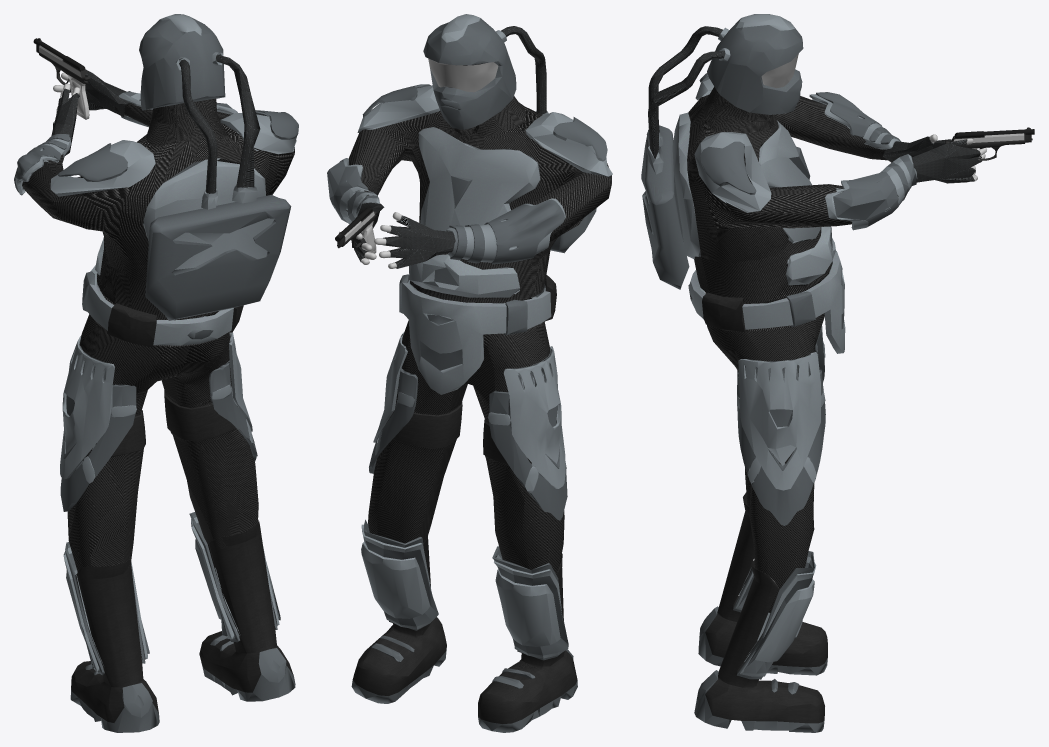
File: AndarPistola.0002.obj
3 views of the same model, side by side, from view 1: azimuth 30°, elevation 25°; view 2: azimuth 150°, elevation 25°; view 3: azimuth 270°, elevation 25° (orthographic).
Parts seen in each view (by area): view 1: personajeskefix:personaje:extrudedSurface2 polySurface22, personajeskefix:personaje:PANTALON polySurface22, personajeskefix:personaje:bota1 polySurface22, personajeskefix:personaje:CAMISETABUENA polySurface22, personajeskefix:personaje:pPipe4 polySurface22, personajeskefix:personaje:pCube4 polySurface22, personajeskefix:personaje:cosoarmdaurapierna1 polySurface22, personajeskefix:personaje:cinturon polySurface22, personajeskefix:personaje:polySurface6 polySurface22, personajeskefix:personaje:armadbota1 polySurface22, personajeskefix:personaje:HOMBRO2 polySurface22, pistola:Cylinder001 polySurface22 (+6 smaller); view 2: personajeskefix:personaje:pPipe4 polySurface22, personajeskefix:personaje:PANTALON polySurface22, personajeskefix:personaje:CAMISETABUENA polySurface22, personajeskefix:personaje:bota1 polySurface22, personajeskefix:personaje:cinturon polySurface22, personajeskefix:personaje:armadbota1 polySurface22, personajeskefix:personaje:pCube4 polySurface22, personajeskefix:personaje:extrudedSurface2 polySurface22, personajeskefix:personaje:cosoarmdaurapierna1 polySurface22, personajeskefix:personaje:polySurface2 polySurface22, personajeskefix:personaje:polySurface6 polySurface22, personajeskefix:personaje:gafas polySurface22 (+8 smaller); view 3: personajeskefix:personaje:CAMISETABUENA polySurface22, personajeskefix:personaje:pPipe4 polySurface22, personajeskefix:personaje:bota1 polySurface22, personajeskefix:personaje:extrudedSurface2 polySurface22, personajeskefix:personaje:pCube4 polySurface22, personajeskefix:personaje:PANTALON polySurface22, personajeskefix:personaje:cinturon polySurface22, personajeskefix:personaje:cosoarmadurapierna2 polySurface22, personajeskefix:personaje:armadbota1 polySurface22, personajeskefix:personaje:hombro1 polySurface22, personajeskefix:personaje:polySurface2 polySurface22, pistola:Cylinder001 polySurface22 (+4 smaller).
Part boxes in pixels (bbox=[...]): personajeskefix:personaje:extrudedSurface2 polySurface22: bbox=[139, 14, 291, 320]; personajeskefix:personaje:PANTALON polySurface22: bbox=[67, 289, 258, 571]; personajeskefix:personaje:bota1 polySurface22: bbox=[70, 521, 295, 732]; personajeskefix:personaje:CAMISETABUENA polySurface22: bbox=[22, 98, 294, 346]; personajeskefix:personaje:pPipe4 polySurface22: bbox=[44, 69, 296, 273]; personajeskefix:personaje:pCube4 polySurface22: bbox=[60, 316, 280, 675]; personajeskefix:personaje:cosoarmdaurapierna1 polySurface22: bbox=[60, 336, 136, 483]; personajeskefix:personaje:cinturon polySurface22: bbox=[82, 265, 243, 347]; personajeskefix:personaje:polySurface6 polySurface22: bbox=[111, 390, 236, 456]; personajeskefix:personaje:armadbota1 polySurface22: bbox=[63, 517, 279, 671]; personajeskefix:personaje:HOMBRO2 polySurface22: bbox=[58, 143, 127, 181]; pistola:Cylinder001 polySurface22: bbox=[33, 38, 90, 119]; personajeskefix:personaje:pPipe4 polySurface22: bbox=[327, 85, 612, 297]; personajeskefix:personaje:PANTALON polySurface22: bbox=[368, 292, 564, 574]; personajeskefix:personaje:CAMISETABUENA polySurface22: bbox=[346, 63, 611, 332]; personajeskefix:personaje:bota1 polySurface22: bbox=[351, 536, 577, 732]; personajeskefix:personaje:cinturon polySurface22: bbox=[399, 267, 556, 394]; personajeskefix:personaje:armadbota1 polySurface22: bbox=[361, 524, 566, 658]; personajeskefix:personaje:pCube4 polySurface22: bbox=[363, 332, 568, 660]; personajeskefix:personaje:extrudedSurface2 polySurface22: bbox=[423, 14, 596, 253]; personajeskefix:personaje:cosoarmdaurapierna1 polySurface22: bbox=[488, 346, 566, 493]; personajeskefix:personaje:polySurface2 polySurface22: bbox=[449, 199, 564, 264]; personajeskefix:personaje:polySurface6 polySurface22: bbox=[393, 402, 508, 465]; personajeskefix:personaje:gafas polySurface22: bbox=[428, 58, 498, 92]; personajeskefix:personaje:CAMISETABUENA polySurface22: bbox=[687, 86, 898, 331]; personajeskefix:personaje:pPipe4 polySurface22: bbox=[672, 76, 981, 285]; personajeskefix:personaje:bota1 polySurface22: bbox=[694, 493, 827, 732]; personajeskefix:personaje:extrudedSurface2 polySurface22: bbox=[641, 14, 803, 289]; personajeskefix:personaje:pCube4 polySurface22: bbox=[733, 326, 825, 679]; personajeskefix:personaje:PANTALON polySurface22: bbox=[705, 265, 828, 612]; personajeskefix:personaje:cinturon polySurface22: bbox=[688, 238, 845, 353]; personajeskefix:personaje:cosoarmadurapierna2 polySurface22: bbox=[737, 366, 825, 525]; personajeskefix:personaje:armadbota1 polySurface22: bbox=[735, 556, 816, 676]; personajeskefix:personaje:hombro1 polySurface22: bbox=[700, 141, 756, 194]; personajeskefix:personaje:polySurface2 polySurface22: bbox=[816, 92, 901, 143]; pistola:Cylinder001 polySurface22: bbox=[945, 127, 1034, 183].
Size of the model in its own units: 3.65 by 9.64 by 5.04.
